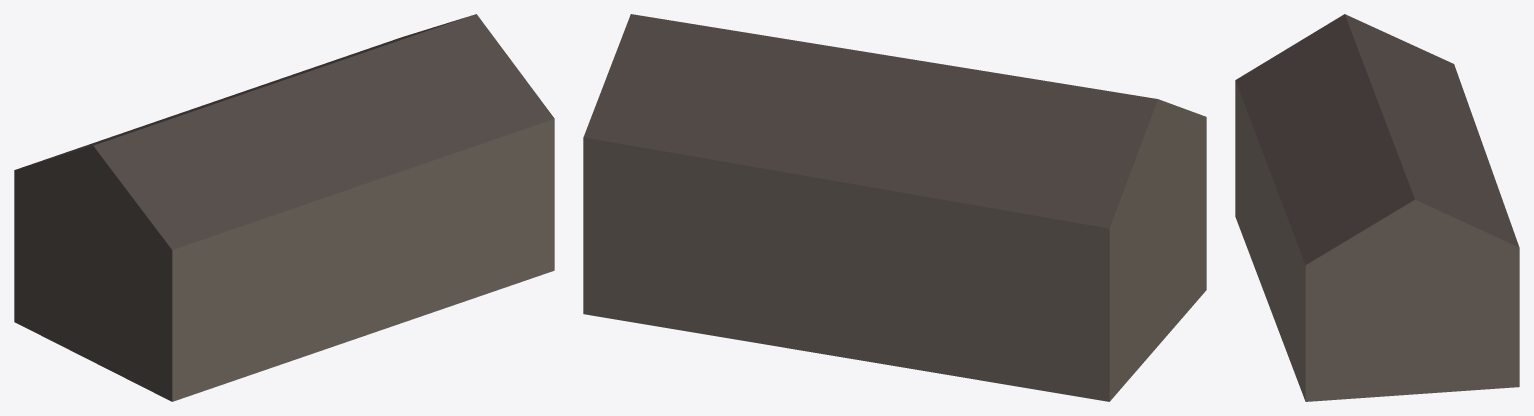
3 renders of one model, left to right at view 1: azimuth 30°, elevation 25°; view 2: azimuth 150°, elevation 25°; view 3: azimuth 270°, elevation 25°, orthographic. The views are drawn at different scales.
Parts seen in each view (by area): view 1: HP-w1196979657; view 2: HP-w1196979657; view 3: HP-w1196979657.
Boxes of the visible parts, x1,y1,x2,y2 form: HP-w1196979657: (14, 14, 554, 401); HP-w1196979657: (583, 14, 1206, 401); HP-w1196979657: (1235, 14, 1519, 401).
Size of the model in its own units: 18.95 by 8.55 by 11.31.
